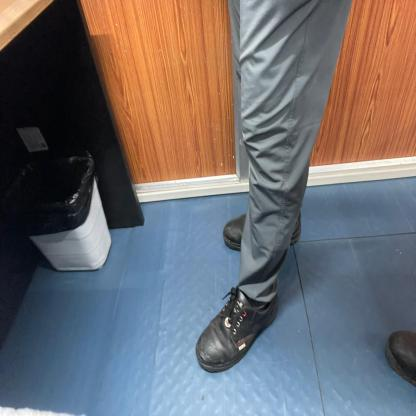bota: (195, 283, 280, 374), (379, 322, 416, 390)
